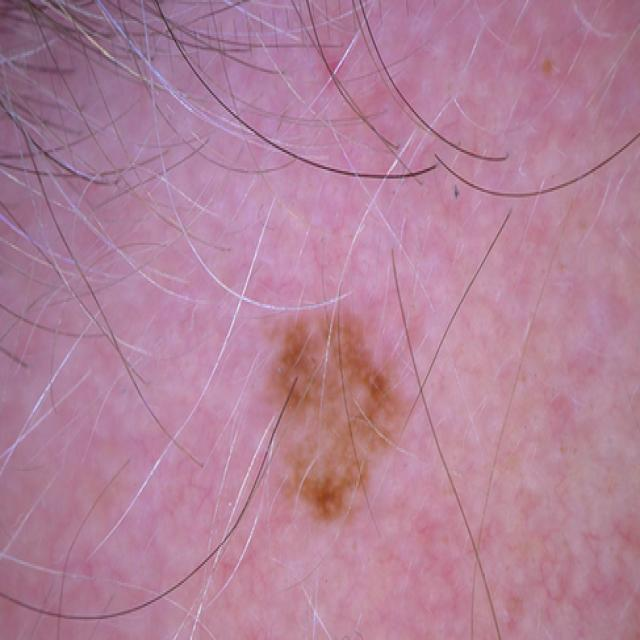Keratosis: (223, 255, 475, 579)
